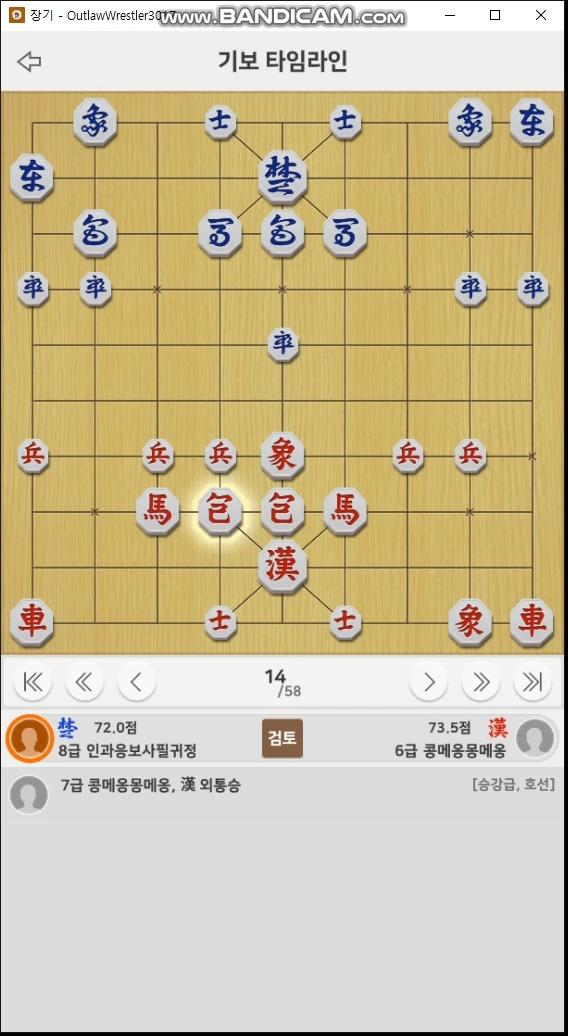cha_green: (12, 155, 53, 204), (512, 100, 553, 146)
cha_red: (509, 597, 554, 645), (9, 600, 54, 645)
jol_green: (517, 269, 551, 310), (454, 270, 488, 309), (266, 327, 300, 364), (80, 271, 114, 307), (19, 272, 49, 308)
jol_red: (141, 438, 175, 473), (204, 438, 236, 474), (458, 439, 488, 476), (18, 439, 49, 474), (393, 438, 424, 473)
ma_green: (198, 209, 243, 256), (324, 211, 367, 257)
ma_red: (325, 485, 366, 536), (137, 489, 178, 537)
po_green: (260, 212, 307, 255), (75, 211, 116, 259)
po_red: (199, 487, 243, 537), (260, 489, 306, 533)
sa_green: (327, 104, 363, 141), (203, 105, 237, 139)
sa_red: (330, 605, 362, 643), (205, 605, 236, 642)
sang_green: (446, 97, 492, 148), (75, 97, 117, 144)
sang_red: (262, 434, 306, 479), (447, 601, 493, 642)
wang_green: (257, 150, 309, 203)
wang_red: (258, 542, 308, 593)
